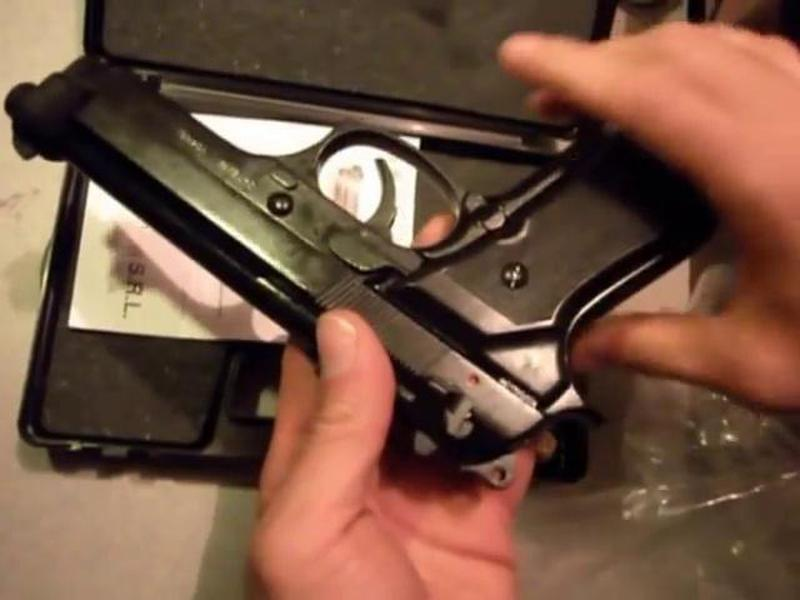Pistola: (16, 39, 714, 500)
